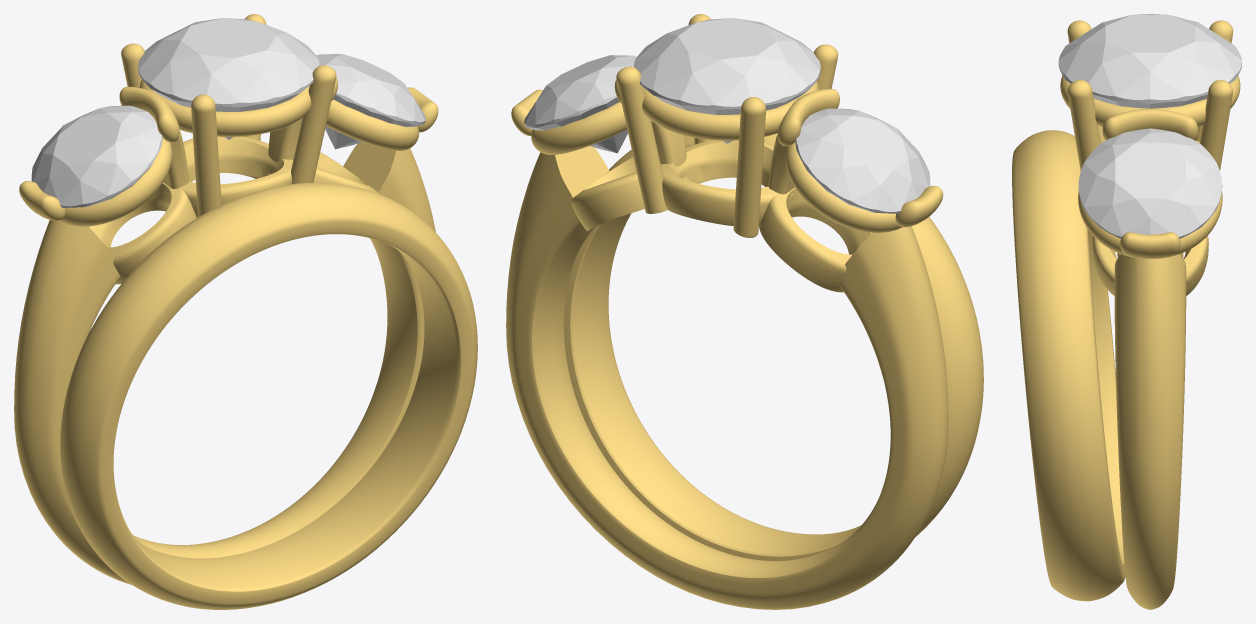
File: PaulaBOTHyg_blender.glb
The picture shows the model from 3 angles, left to right: view 1: azimuth 30°, elevation 25°; view 2: azimuth 150°, elevation 25°; view 3: azimuth 270°, elevation 25°; orthographic projection. The views are drawn at different scales.
Parts seen in each view (by area): view 1: V3 Paula YG for 3d model, WB paula YG for 3d model, V3 Paula dia for 3d model.002, V3 Paula dia for 3d model.001, V3 Paula dia for 3d model; view 2: V3 Paula YG for 3d model, WB paula YG for 3d model, V3 Paula dia for 3d model.002, V3 Paula dia for 3d model.001, V3 Paula dia for 3d model; view 3: WB paula YG for 3d model, V3 Paula YG for 3d model, V3 Paula dia for 3d model.002, V3 Paula dia for 3d model.
Part boxes in pixels (x1,y1,x2,y2): V3 Paula YG for 3d model: (14, 14, 438, 584); WB paula YG for 3d model: (60, 182, 477, 609); V3 Paula dia for 3d model.002: (138, 18, 319, 139); V3 Paula dia for 3d model.001: (31, 105, 162, 207); V3 Paula dia for 3d model: (316, 54, 425, 149); V3 Paula YG for 3d model: (506, 14, 948, 609); WB paula YG for 3d model: (564, 133, 983, 560); V3 Paula dia for 3d model.002: (634, 18, 820, 143); V3 Paula dia for 3d model.001: (795, 108, 930, 213); V3 Paula dia for 3d model: (524, 55, 636, 153); WB paula YG for 3d model: (1012, 130, 1125, 601); V3 Paula YG for 3d model: (1060, 20, 1240, 609); V3 Paula dia for 3d model.002: (1058, 14, 1241, 108); V3 Paula dia for 3d model: (1078, 128, 1222, 238).
Size of the model in its own units: 19.9 by 24.64 by 9.29.
